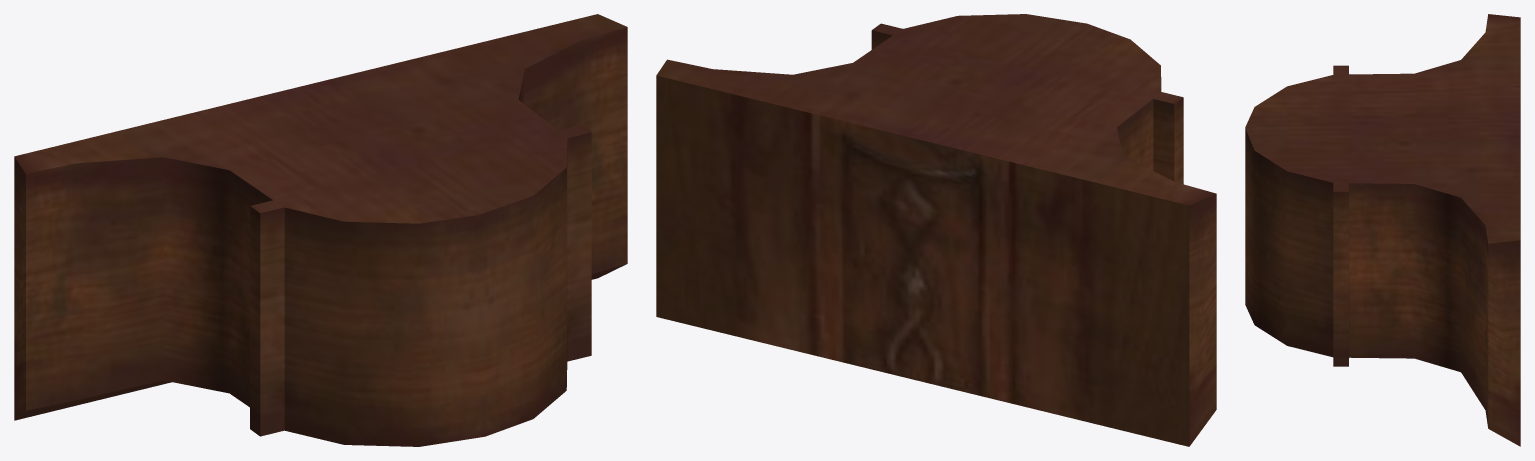
The model's file is furniture_tableclock1.glb.
The picture shows the model from 3 angles, left to right: view 1: azimuth 30°, elevation 25°; view 2: azimuth 150°, elevation 25°; view 3: azimuth 270°, elevation 25°; orthographic projection. The views are drawn at different scales.
Bounding box in the file's own units: 14.58 × 6.12 × 7.4.
Materials: 1 (1 with a texture image).
